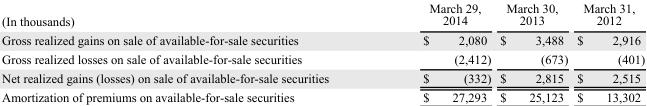table: (1, 0, 644, 103)
table column: (1, 0, 375, 103), (375, 0, 494, 103), (494, 0, 571, 103), (571, 0, 644, 103)
table column header: (1, 0, 644, 30)
table row: (1, 0, 644, 30), (1, 30, 644, 49), (1, 49, 644, 68), (1, 68, 644, 87), (1, 87, 644, 103)
